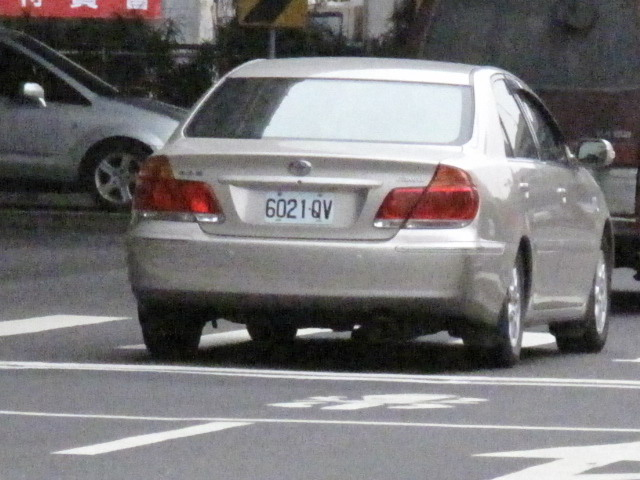plate: (264, 189, 336, 228)
